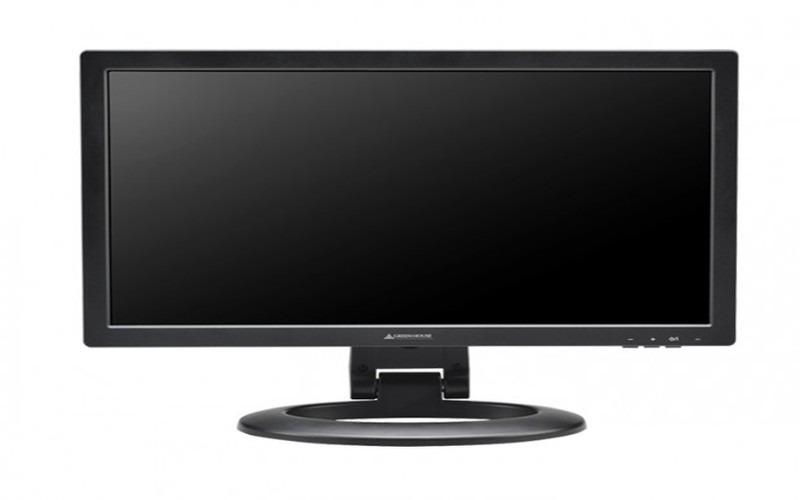LCD: (36, 20, 746, 448)
